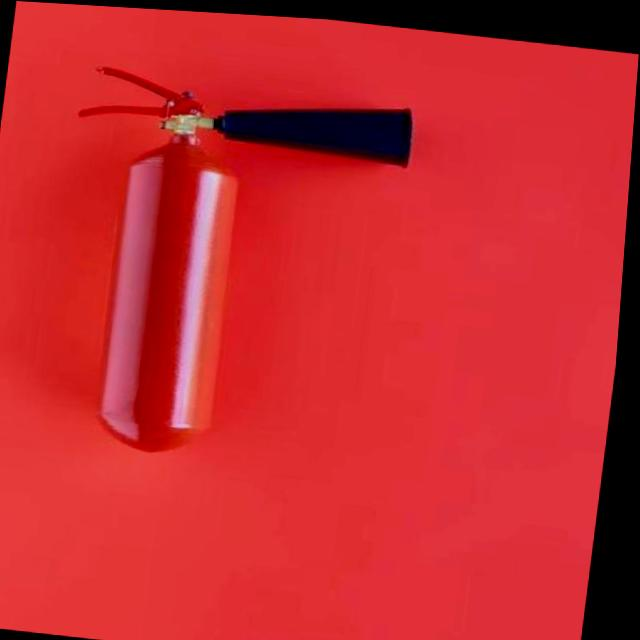FireExtinguisher: (37, 49, 434, 475)
